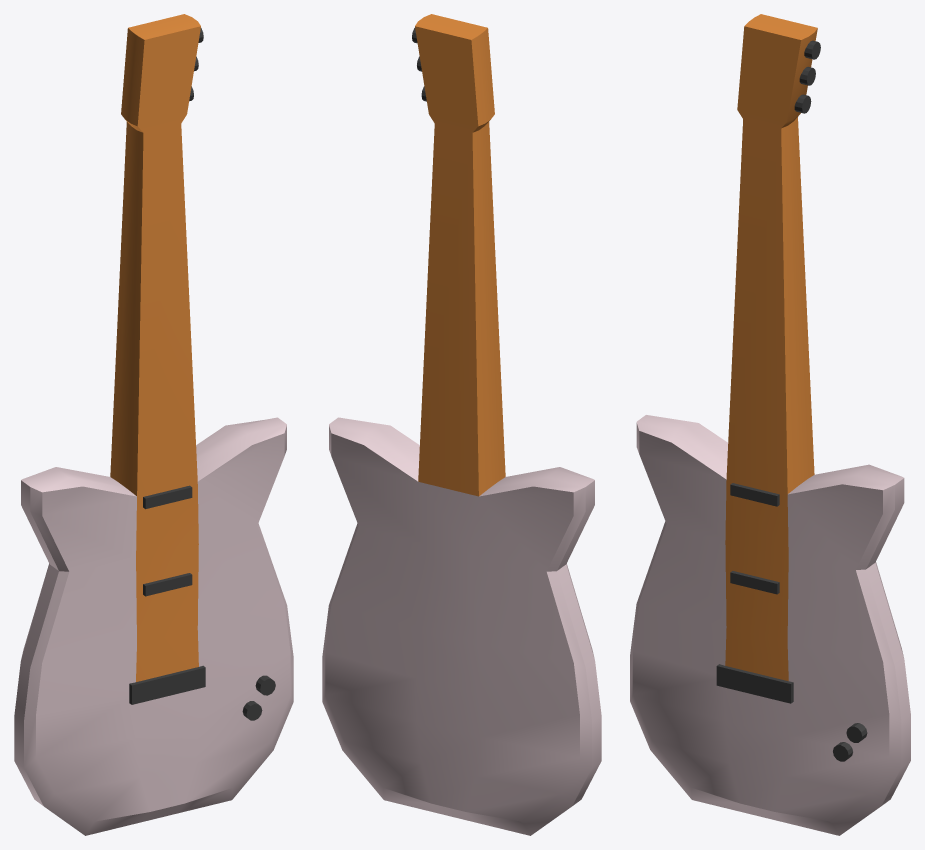
The model's file is guitar.fbx.
The picture shows the model from 3 angles, left to right: view 1: azimuth 30°, elevation 25°; view 2: azimuth 150°, elevation 25°; view 3: azimuth 330°, elevation 25°; orthographic projection.
Parts seen in each view (by area): view 1: Guitar; view 2: Guitar; view 3: Guitar.
Part boxes in pixels (x1,y1,x2,y2): Guitar: [14, 14, 293, 835]; Guitar: [322, 14, 601, 835]; Guitar: [630, 14, 910, 835].
Size of the model in its own units: 36.33 by 6.79 by 101.
